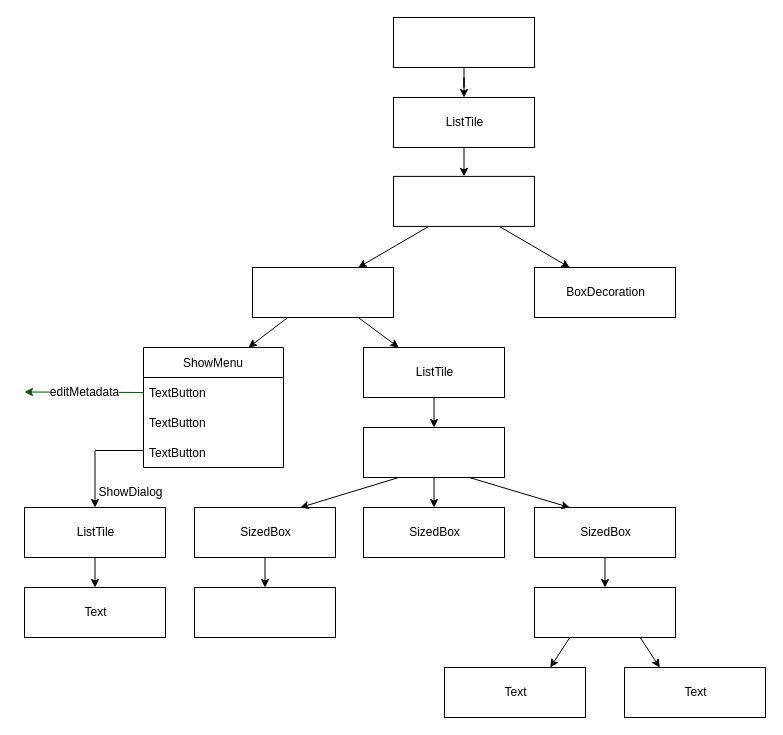
Image size: 783x735. Some labels were removed from this diagram. Each missing label, with the centre of its shape:
"Column" goes at (605,612).
"Container" goes at (463,200).
"GestureDetector" goes at (323,292).
"GridView" goes at (463,42).
"Image" goes at (265,612).
"Row" goes at (433,452).
